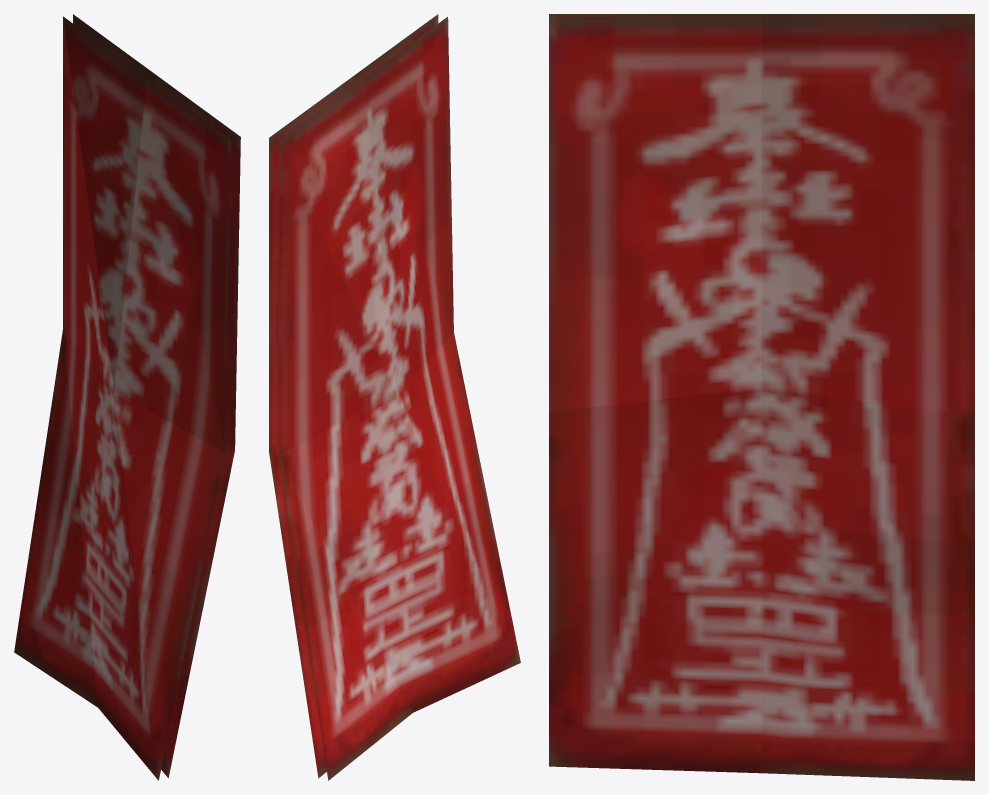
Rendered from Monkey_chineseTalisman_01_chineseTalisman2.obj.
3 views of the same model, side by side, from view 1: azimuth 30°, elevation 25°; view 2: azimuth 150°, elevation 25°; view 3: azimuth 270°, elevation 25° (orthographic). The views are drawn at different scales.
Visible parts, largest first — view 1: Monkey_chineseTalisman_01 [chineseTalisman2]; view 2: Monkey_chineseTalisman_01 [chineseTalisman2]; view 3: Monkey_chineseTalisman_01 [chineseTalisman2].
Part boxes in pixels (x1,y1,x2,y2): Monkey_chineseTalisman_01 [chineseTalisman2]: [14, 14, 240, 780]; Monkey_chineseTalisman_01 [chineseTalisman2]: [269, 14, 520, 780]; Monkey_chineseTalisman_01 [chineseTalisman2]: [549, 14, 974, 780].
Bounding box in the file's own units: 0.0291 × 0.2116 × 0.1032.
Materials: 1 (1 with a texture image).
